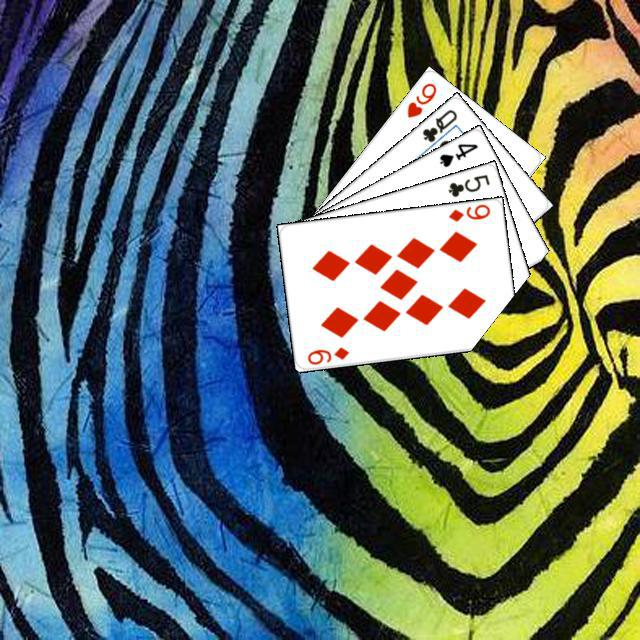4s: (434, 138, 480, 169)
5c: (443, 169, 491, 199)
9d: (302, 342, 351, 366), (443, 200, 492, 223)
9h: (402, 78, 438, 120)
Qc: (417, 104, 460, 152)
